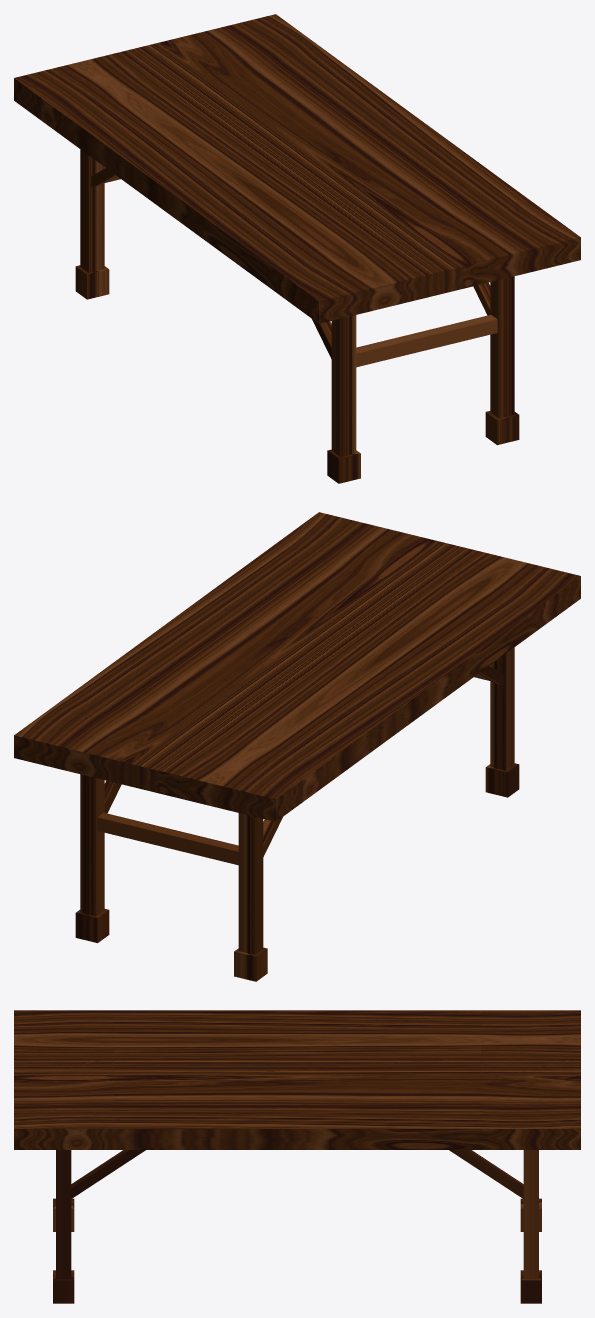
Rendered from Table.fbx.
3 renders of one model, top to bottom at view 1: azimuth 30°, elevation 25°; view 2: azimuth 150°, elevation 25°; view 3: azimuth 270°, elevation 25°, orthographic. The views are drawn at different scales.
Parts seen in each view (by area): view 1: table; view 2: table; view 3: table.
Boxes of the visible parts, x1,y1,x2,y2 form: table: [14, 14, 580, 483]; table: [14, 512, 580, 981]; table: [14, 1010, 580, 1303].
Size of the model in its own units: 134 by 102 by 270.
1 material, 1 textured.
